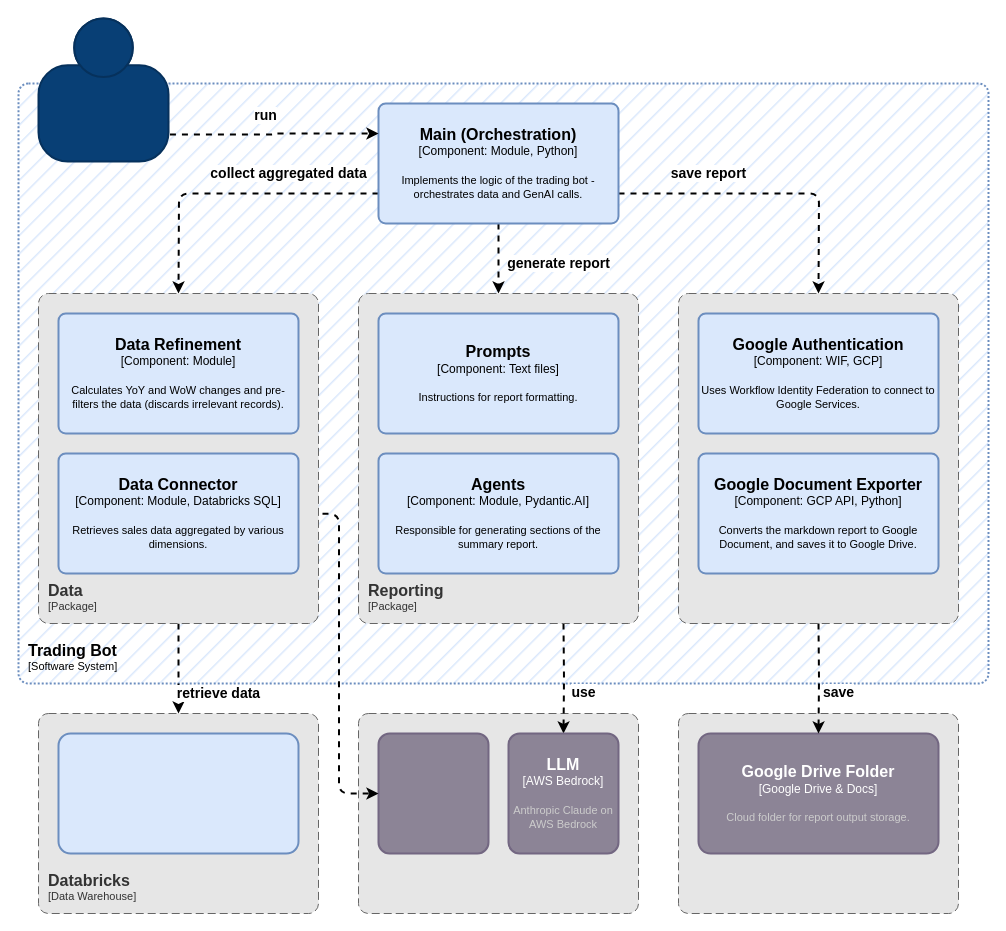
This 1006x931 diagram has some shape labels left out. Each missing label, with the box of its shape:
AWS [Cloud Provider]: (358, 712, 638, 914)
Credentials [Secrets Manager] Databricks SQL credentials: (377, 732, 489, 854)
GCP [Cloud Provider]: (678, 712, 958, 914)
GCP Connector [Package]: (678, 292, 958, 624)
Sales / Stock / Onsite Data [Data Source] Metrics across shared dimensions: (57, 732, 299, 854)
User [Process or Human]: (37, 17, 169, 162)
